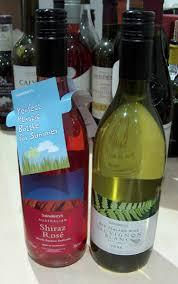Glass bottle: (91, 8, 166, 278), (22, 11, 90, 271)
